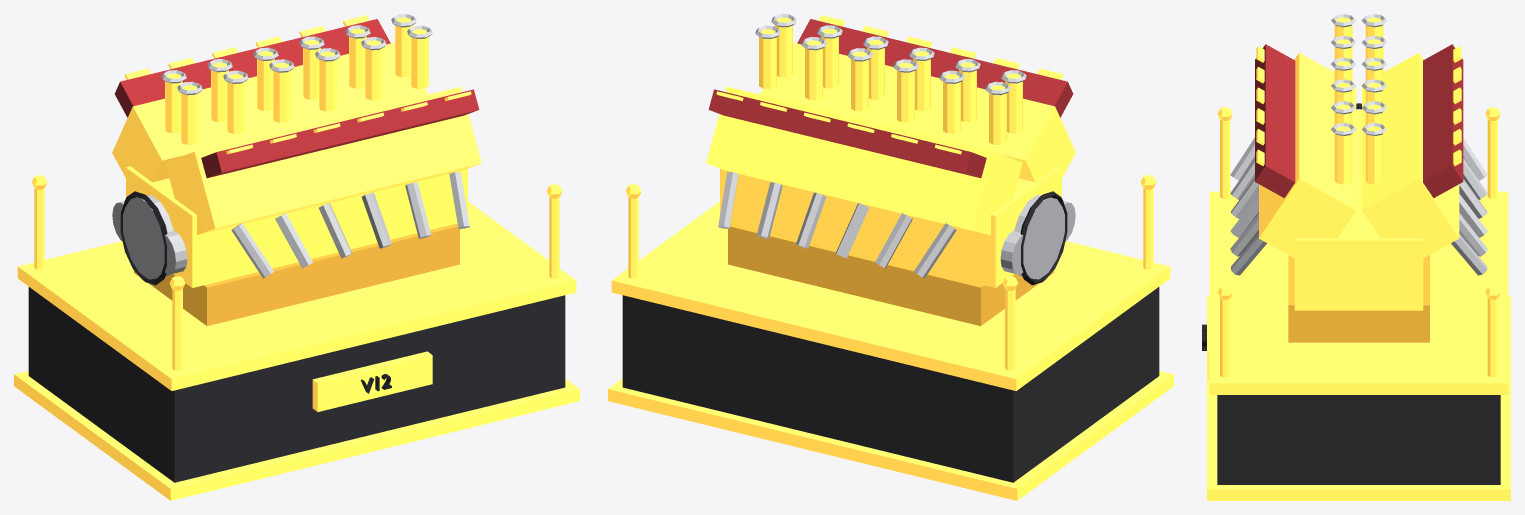
The model's file is lux_gold_engine.glb.
3 renders of one model, left to right at view 1: azimuth 30°, elevation 25°; view 2: azimuth 150°, elevation 25°; view 3: azimuth 270°, elevation 25°, orthographic. The views are drawn at different scales.
Visible parts, largest first — view 1: lux_gold_engine; view 2: lux_gold_engine; view 3: lux_gold_engine.
Part boxes in pixels (x1,y1,x2,y2): lux_gold_engine: (14,14,579,500); lux_gold_engine: (608,14,1173,500); lux_gold_engine: (1202,14,1510,500).
Bounding box in the file's own units: 1.78 × 1.42 × 1.2.
